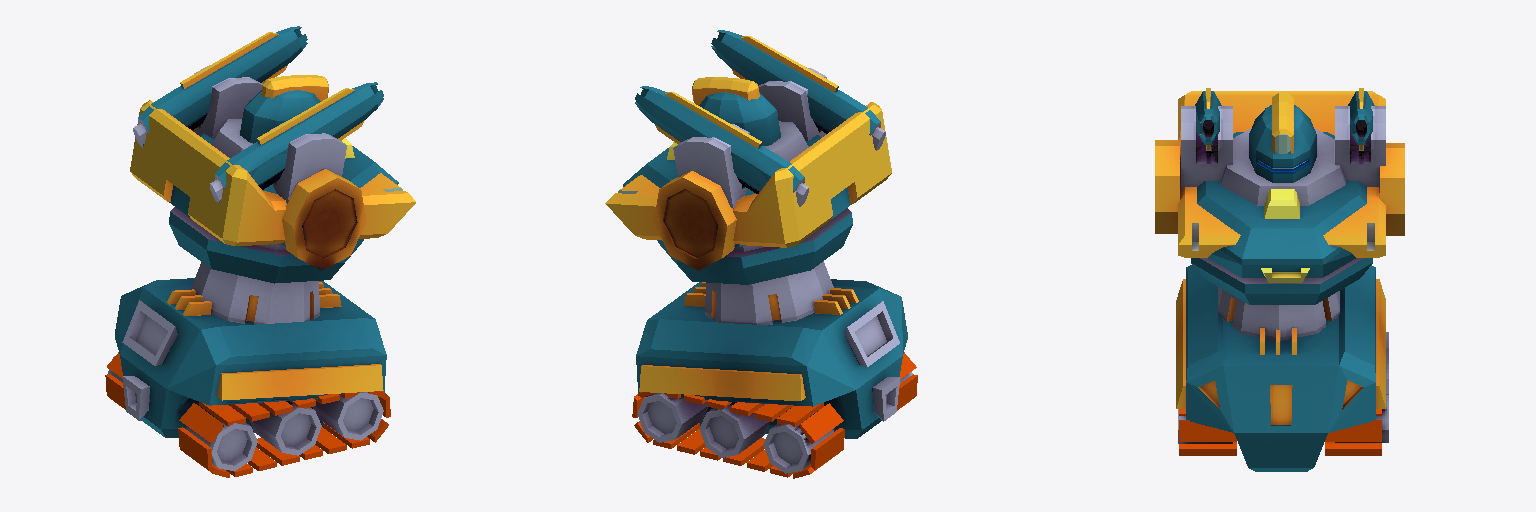
The picture shows the model from 3 angles: view 1: azimuth 30°, elevation 25°; view 2: azimuth 150°, elevation 25°; view 3: azimuth 270°, elevation 25°; orthographic projection.
Visible parts, largest first — view 1: Object004, Object014, Box009, Box017, Box016; view 2: Object004, Object014, Box009, Box016, Box017; view 3: Object004, Object014, Box016, Box017, Box009.
Part boxes in pixels (x1,y1,x2,y2): Object004: (115,65,415,437); Object014: (133,26,383,202); Box009: (107,356,383,470); Box017: (178,391,390,477); Box016: (105,352,140,420); Object004: (605,67,907,438); Object014: (635,30,885,206); Box009: (637,372,912,473); Box016: (632,392,844,478); Box017: (897,352,917,410); Object004: (1155,91,1404,471); Object014: (1195,88,1374,149); Box016: (1325,409,1381,455); Box017: (1179,409,1236,455); Box009: (1178,332,1388,443).
Size of the model in its own units: 60.24 by 83.82 by 52.49.
Materials: 2 (1 with a texture image).